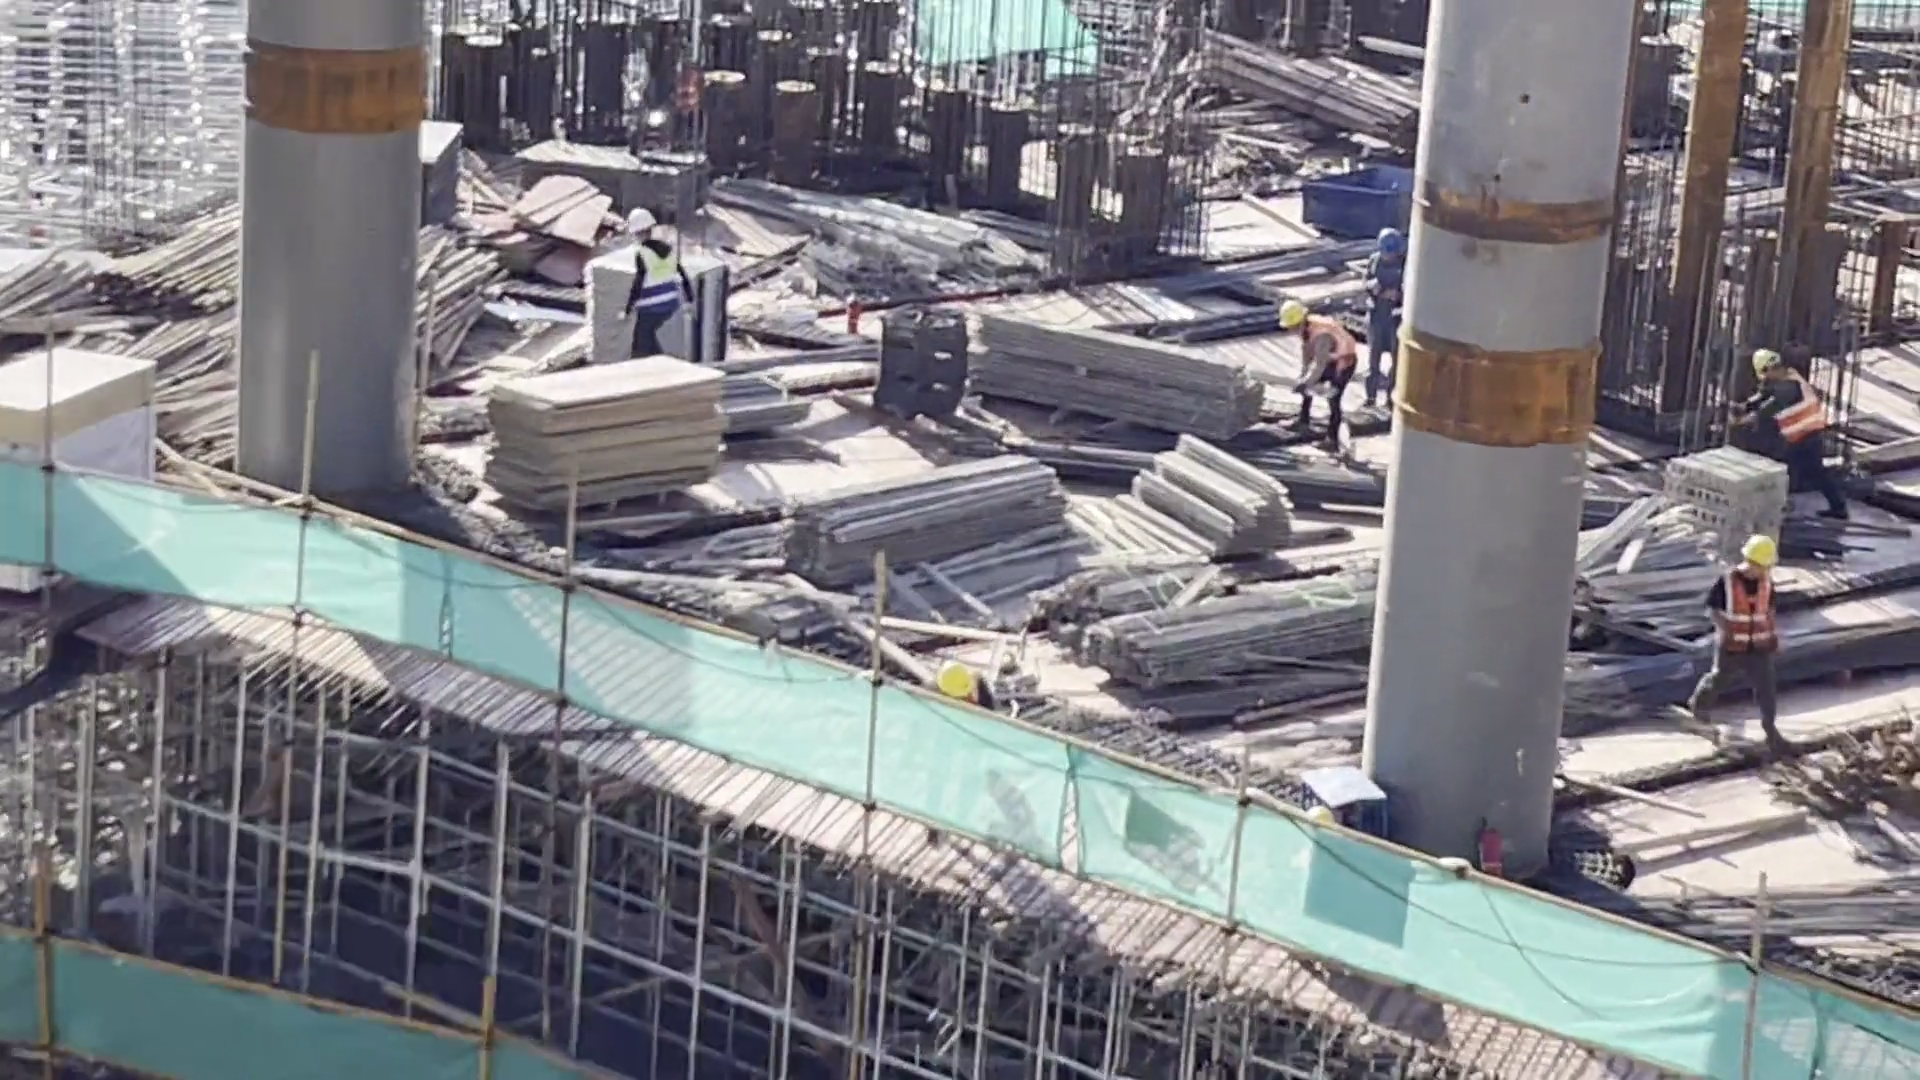board: (441, 342, 691, 504), (33, 322, 163, 502), (521, 112, 706, 227), (429, 117, 459, 244)
helmet: (1740, 520, 1776, 561), (1368, 223, 1408, 258), (1742, 350, 1779, 383), (937, 661, 970, 694), (1276, 299, 1309, 326), (632, 208, 649, 243)
hopper: (1293, 152, 1414, 236)
person: (1731, 338, 1823, 505), (1714, 520, 1774, 738), (626, 215, 703, 363), (1373, 220, 1429, 403), (1274, 301, 1346, 403), (931, 650, 1003, 721)
rebar: (1576, 592, 1920, 705), (1698, 873, 1920, 981), (1024, 446, 1386, 502), (1158, 235, 1438, 291)
scaffold: (589, 247, 731, 371)
vest: (1358, 259, 1408, 344), (626, 241, 678, 311), (1724, 572, 1779, 631), (1788, 367, 1824, 446), (1319, 317, 1351, 387), (969, 666, 994, 714)
wood: (1251, 9, 1424, 134), (391, 247, 503, 374), (118, 221, 249, 292)
